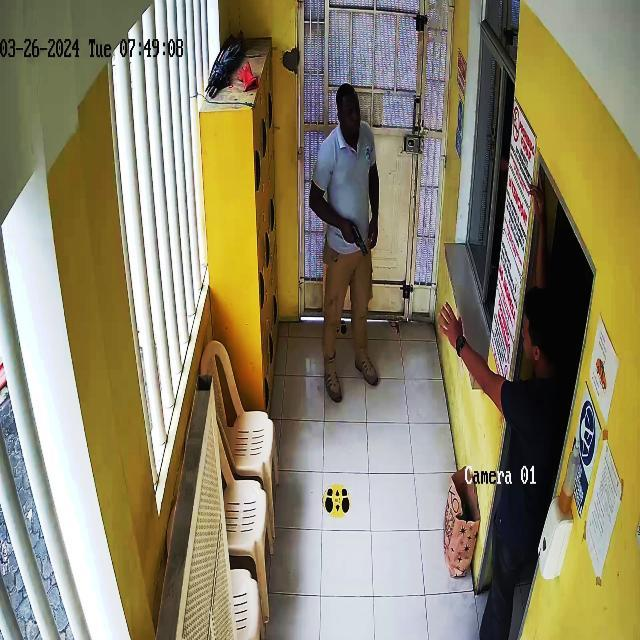Gun: (338, 214, 374, 268)
